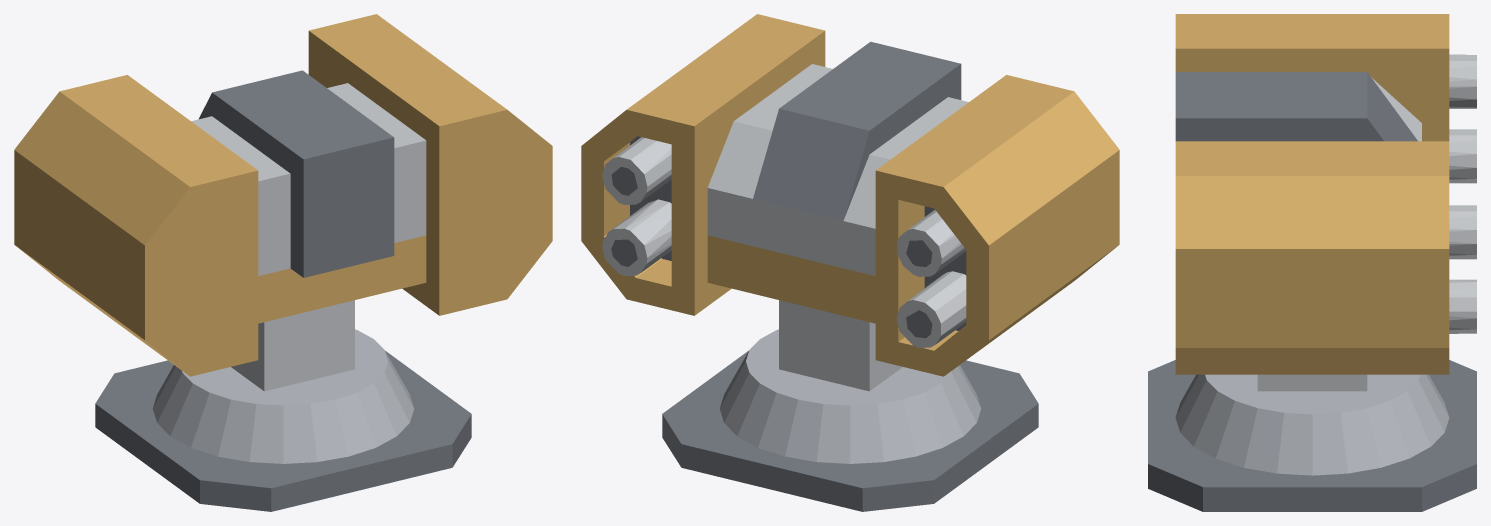
File: turret_double.glb
3 views of the same model, side by side, from view 1: azimuth 30°, elevation 25°; view 2: azimuth 150°, elevation 25°; view 3: azimuth 270°, elevation 25° (orthographic). The views are drawn at different scales.
Parts seen in each view (by area): view 1: turret_double; view 2: turret_double; view 3: turret_double.
Boxes of the visible parts, <box> form: turret_double: <box>14,14,552,511</box>; turret_double: <box>581,14,1119,511</box>; turret_double: <box>1148,14,1476,511</box>.
Size of the model in its own units: 1.29 by 1 by 0.8572.
